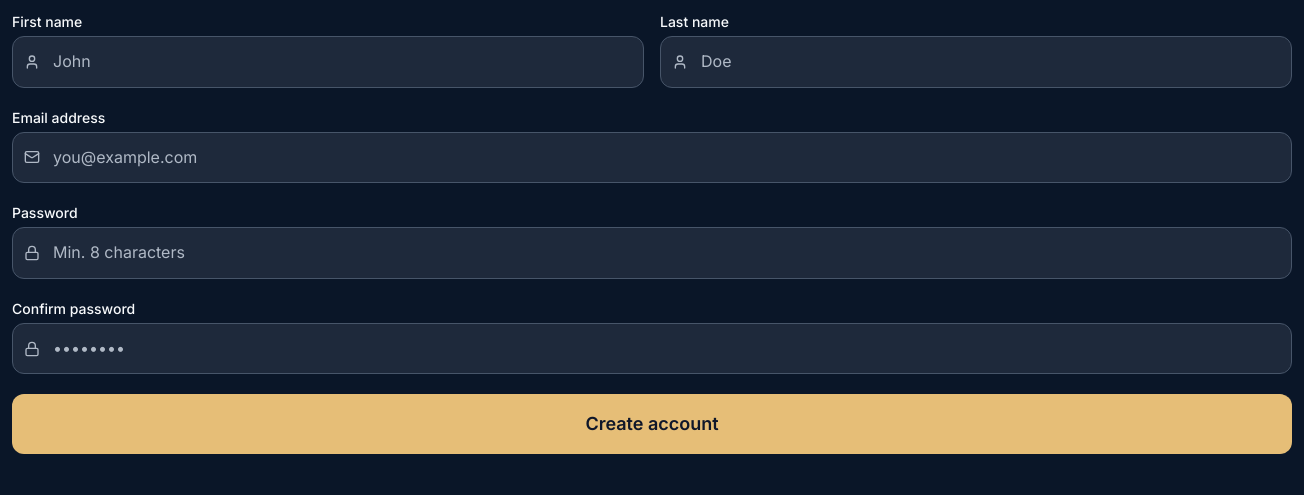
Test: RegisterForm › shows the email field error when the server says email is taken
The image size is (1304, 495).
Type "Kevin" into the field labelled "First name".
click(328, 62); type("Kevin")  # box [12,36,644,88]
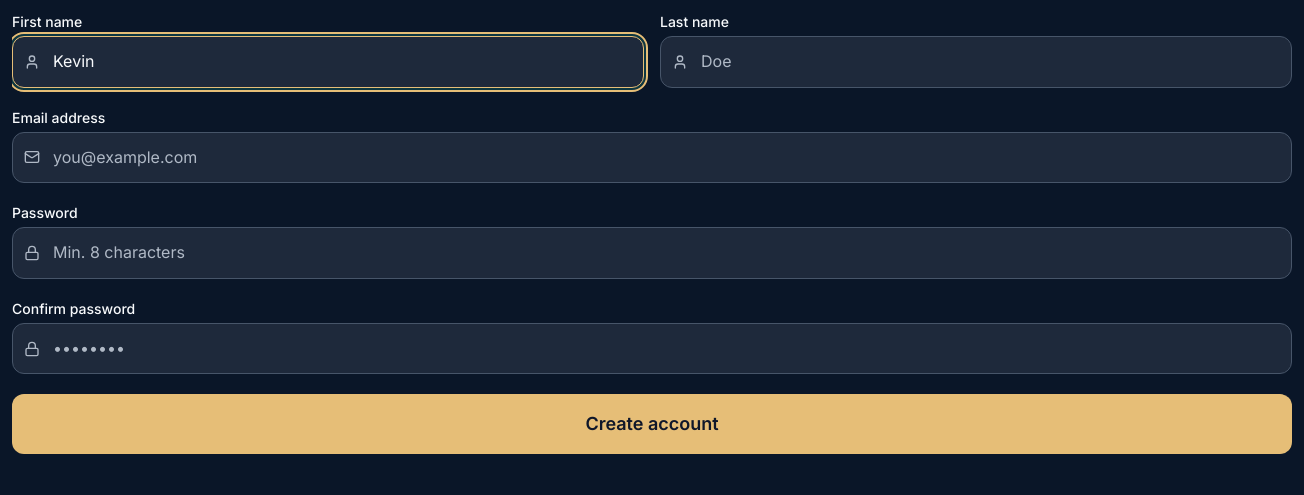
Type "Mahendra" into the field labelled "Last name".
click(976, 62); type("Mahendra")  # box [660,36,1292,88]
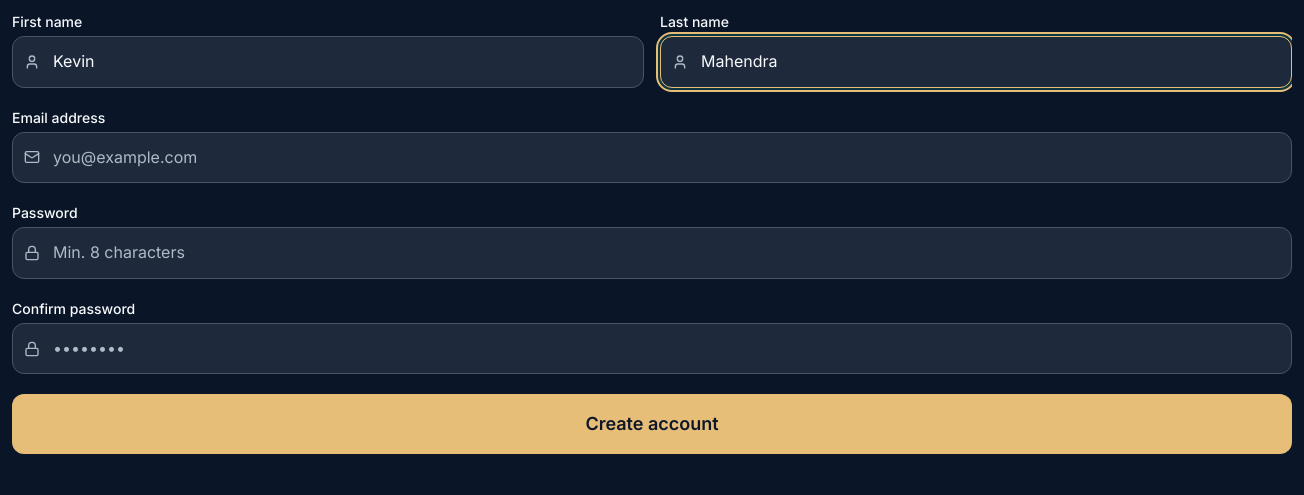
Type "kevin@example.com" into the field labelled "Email address".
click(652, 157); type("kevin@example.com")  # box [12,132,1292,183]
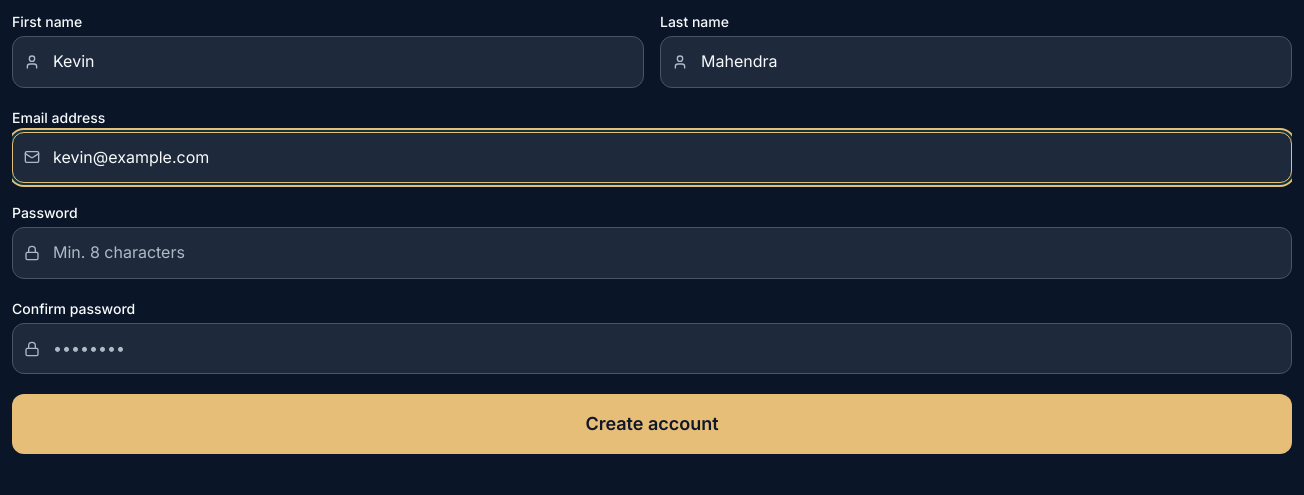
Type "StrongPass123!" into the password field labelled "Password".
click(652, 253); type("StrongPass123!")  # box [12,227,1292,279]
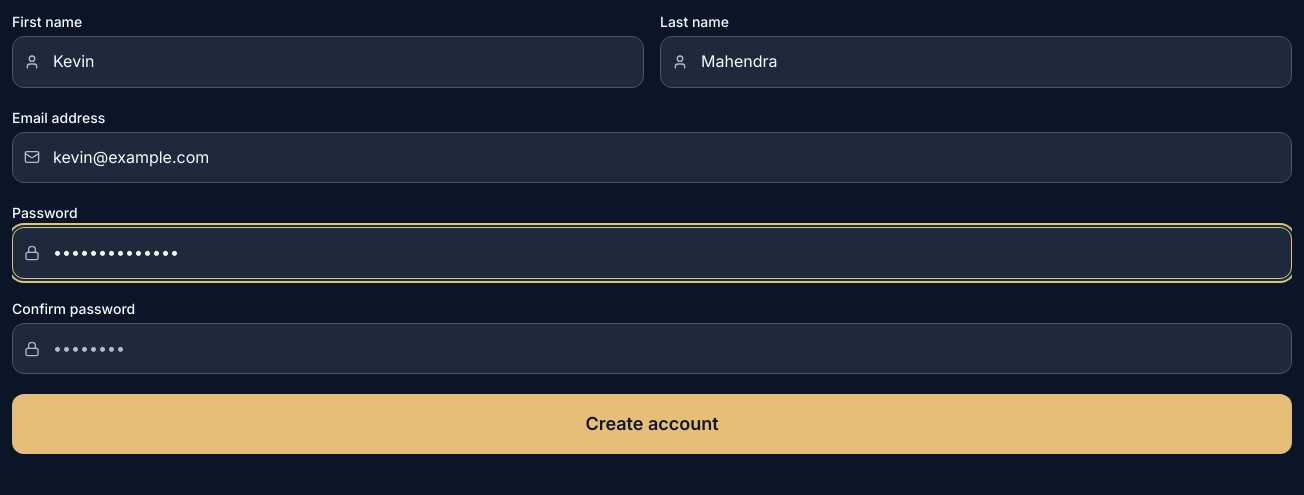
Type "StrongPass123!" into the password field labelled "Confirm password".
click(652, 349); type("StrongPass123!")  # box [12,323,1292,374]
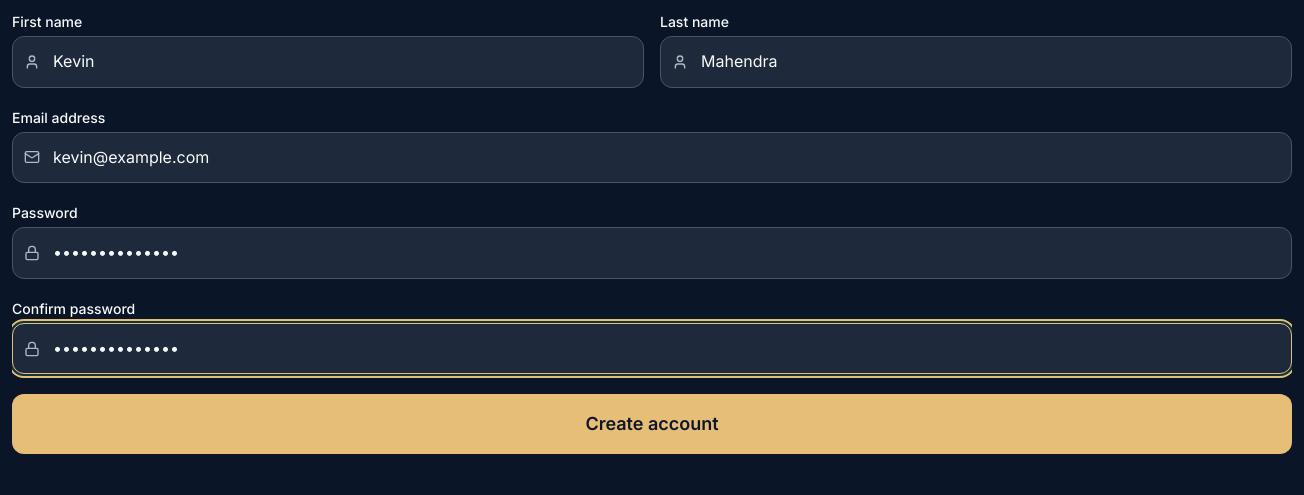
Click the button "Create account".
click(652, 424)  # box [12,394,1292,454]
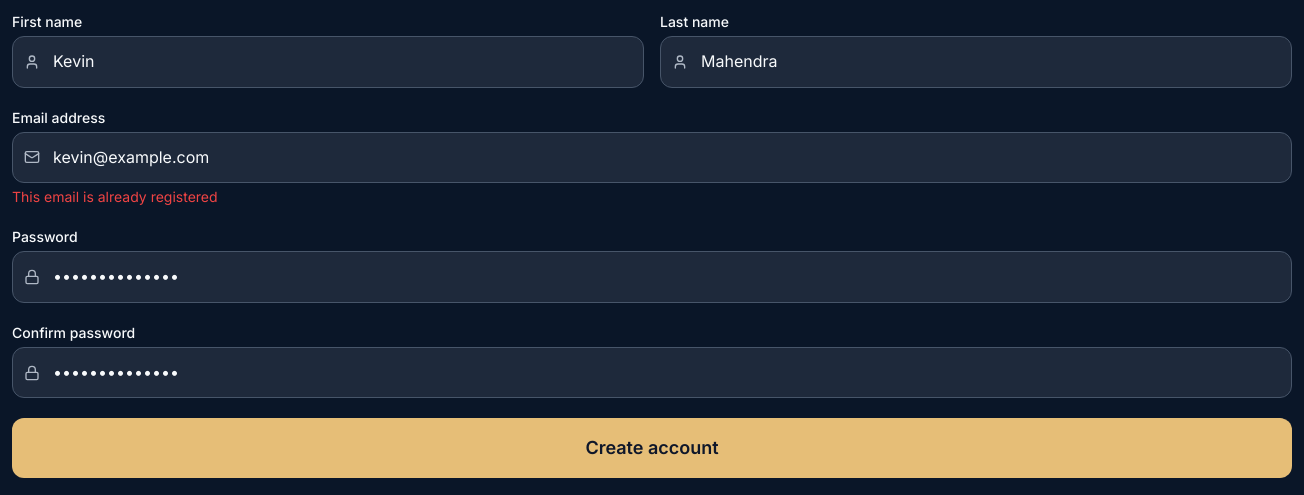
Check: the text "This email is already registered" is shown, box [12,188,218,205]
